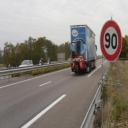speed_limit_90: (100, 20, 121, 62)
